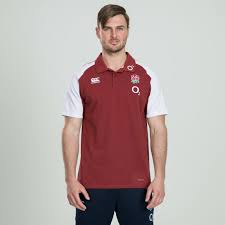S_polo shirt: (56, 52, 169, 187)
